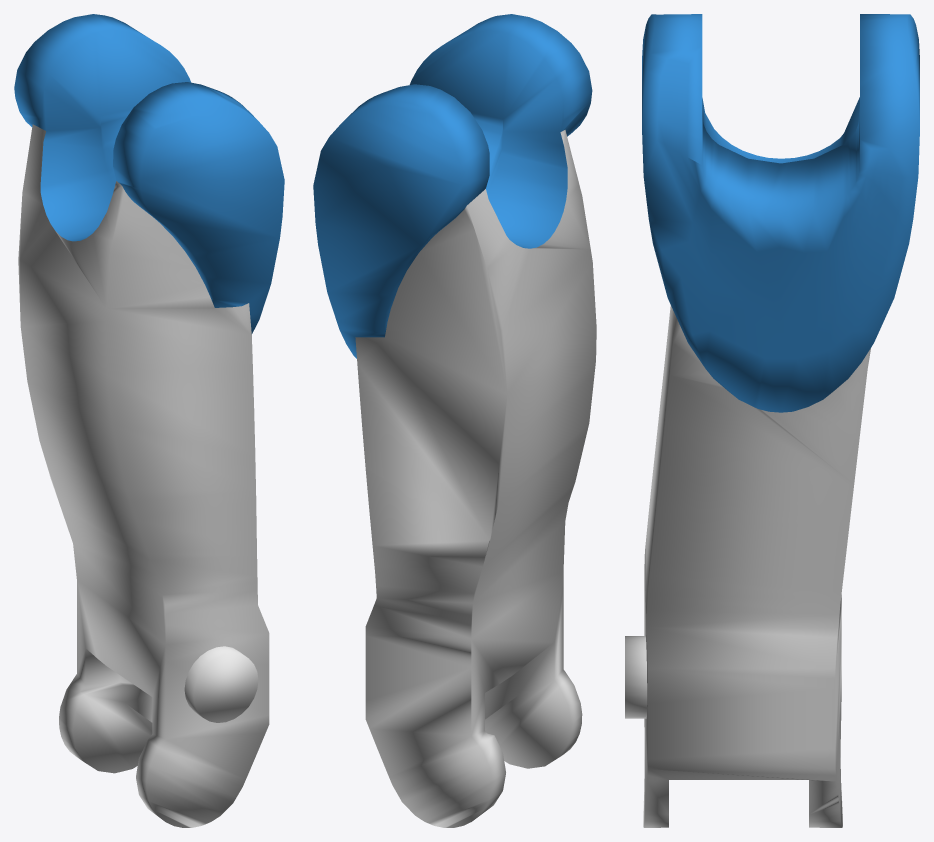
File: L_HIP_P.dae
3 renders of one model, left to right at view 1: azimuth 30°, elevation 25°; view 2: azimuth 150°, elevation 25°; view 3: azimuth 270°, elevation 25°, orthographic. The views are drawn at different scales.
Visible parts, largest first — view 1: ShapeIndexedFaceS_048, ShapeIndexedFaceS_049, ShapeIndexedFaceS_050; view 2: ShapeIndexedFaceS_048, ShapeIndexedFaceS_049; view 3: ShapeIndexedFaceS_048, ShapeIndexedFaceS_049, ShapeIndexedFaceS_050.
Boxes of the visible parts, <box> form: ShapeIndexedFaceS_048: <box>18,124,269,827</box>; ShapeIndexedFaceS_049: <box>14,14,284,334</box>; ShapeIndexedFaceS_050: <box>184,646,258,722</box>; ShapeIndexedFaceS_048: <box>355,130,596,827</box>; ShapeIndexedFaceS_049: <box>313,14,592,358</box>; ShapeIndexedFaceS_048: <box>643,305,870,827</box>; ShapeIndexedFaceS_049: <box>642,14,919,412</box>; ShapeIndexedFaceS_050: <box>625,636,647,718</box>.
Bounding box in the file's own units: 0.1097 × 0.1422 × 0.4259.
